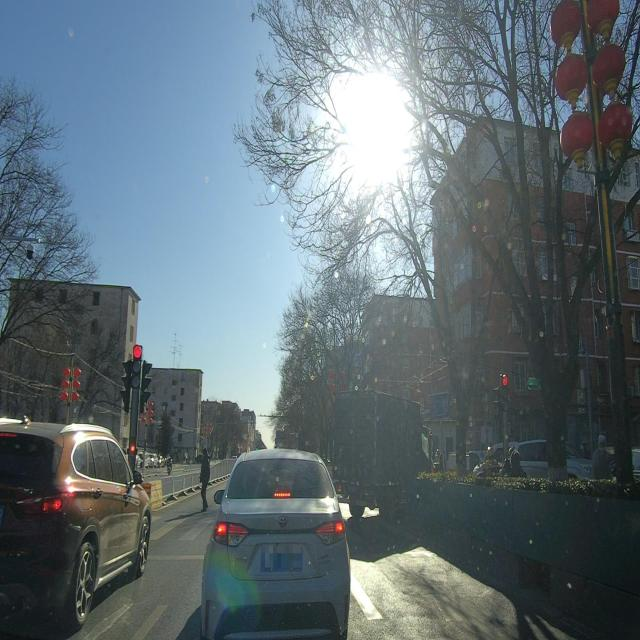Traffic Light -Off-: (141, 359, 153, 415), (121, 358, 132, 412)
Traffic Light -Red-: (132, 344, 142, 389), (501, 372, 510, 415)
